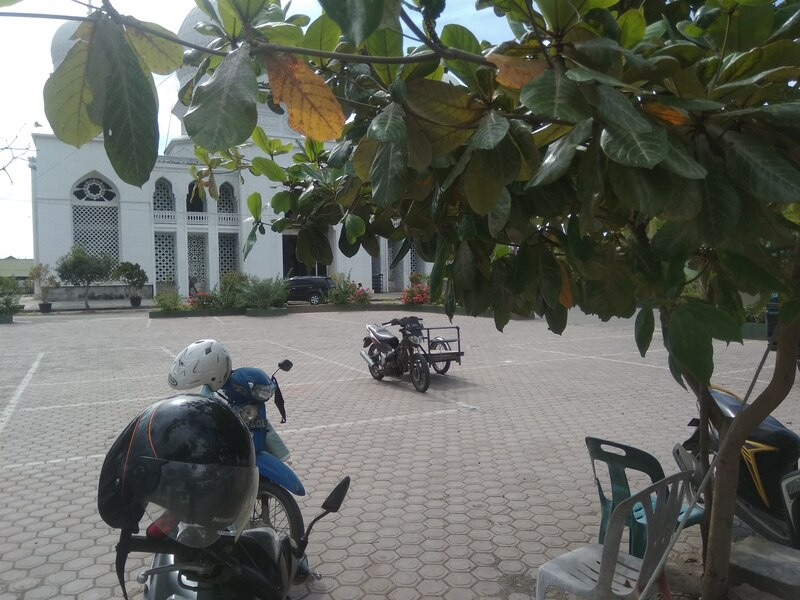becak barang: (358, 312, 469, 402)
